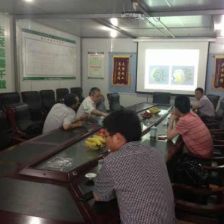head: (99, 107, 146, 151), (172, 93, 192, 116), (63, 92, 81, 112), (87, 86, 105, 104), (194, 85, 204, 100)
